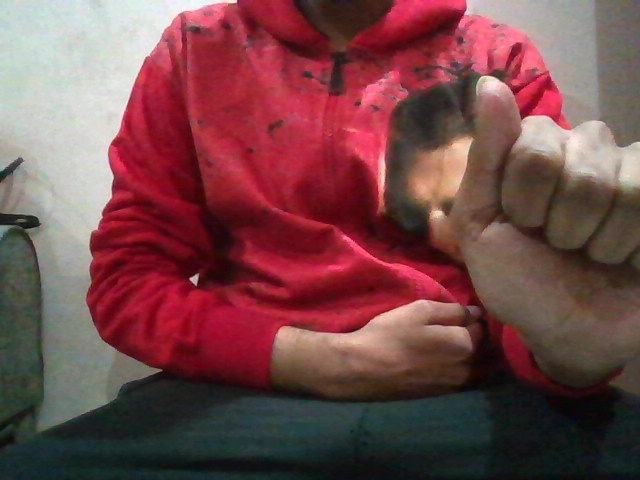A: (444, 71, 640, 393)
